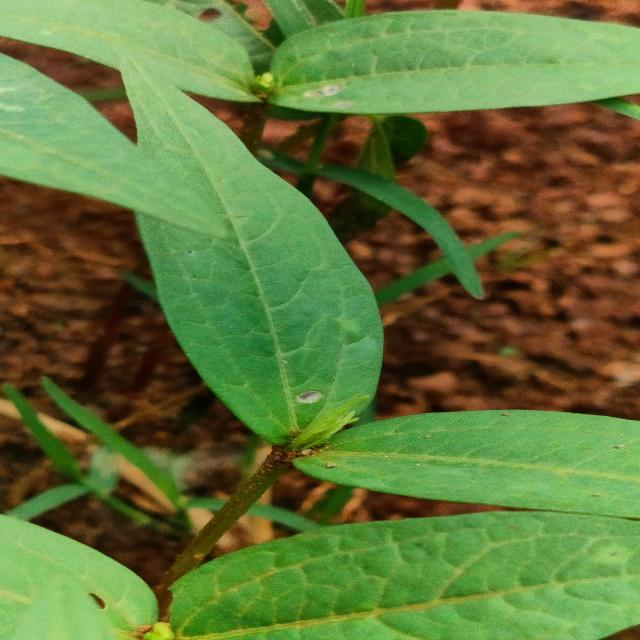Black gram_healthy: (95, 21, 392, 455), (168, 507, 640, 640)
